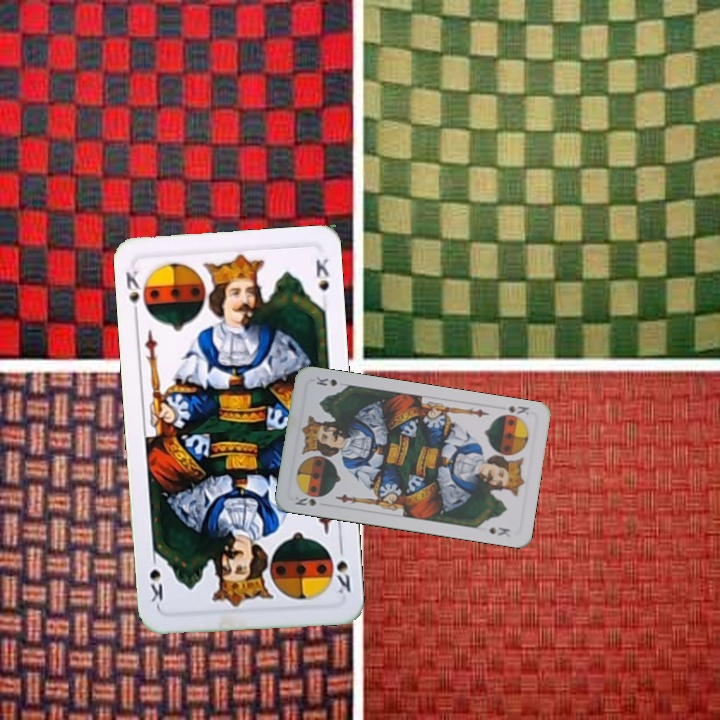SK: (121, 267, 151, 321), (332, 539, 353, 596), (291, 492, 319, 509), (504, 401, 532, 418)
